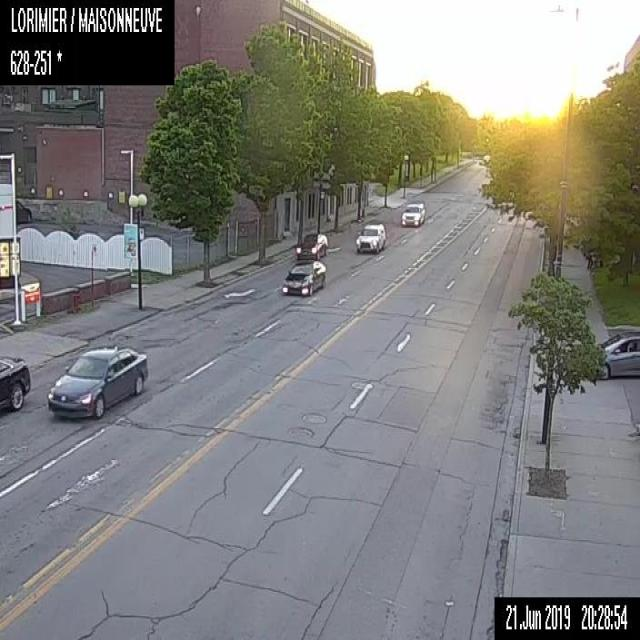vehicle: (45, 344, 149, 419), (596, 330, 639, 378), (0, 355, 32, 409), (282, 259, 325, 296), (354, 222, 384, 254), (296, 233, 327, 260), (400, 200, 425, 227)
